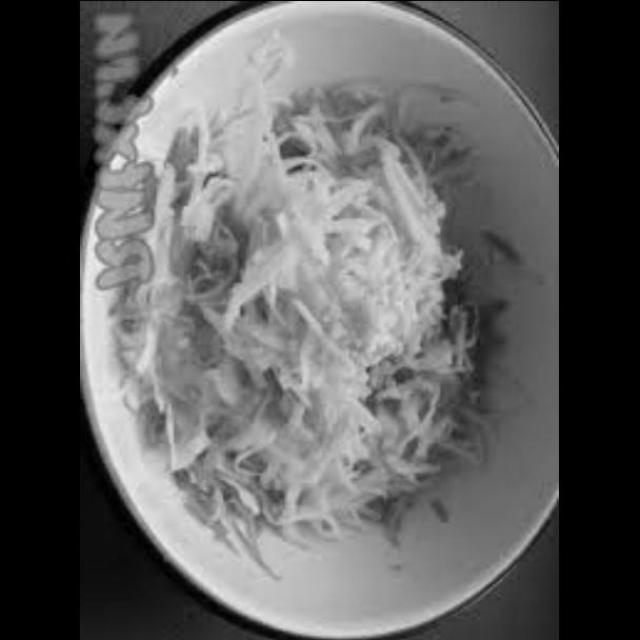ca rot: (186, 393, 269, 481), (188, 482, 270, 556), (159, 329, 205, 410), (163, 123, 204, 212), (276, 87, 370, 121), (378, 482, 424, 541)
cabbage: (233, 142, 441, 380), (272, 374, 383, 534)
